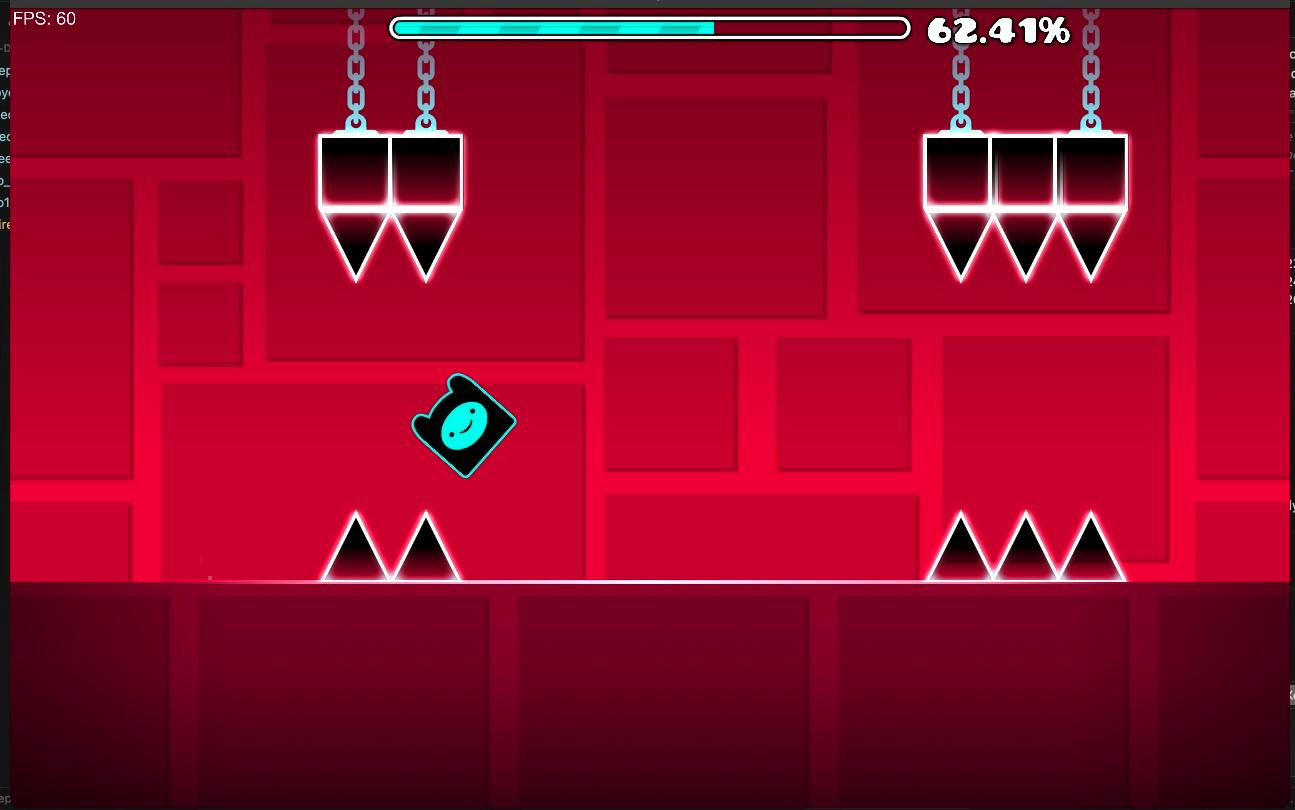player: (412, 374, 515, 477)
spike: (923, 113, 1128, 281), (318, 124, 463, 279), (927, 510, 1126, 580), (325, 512, 460, 580)
